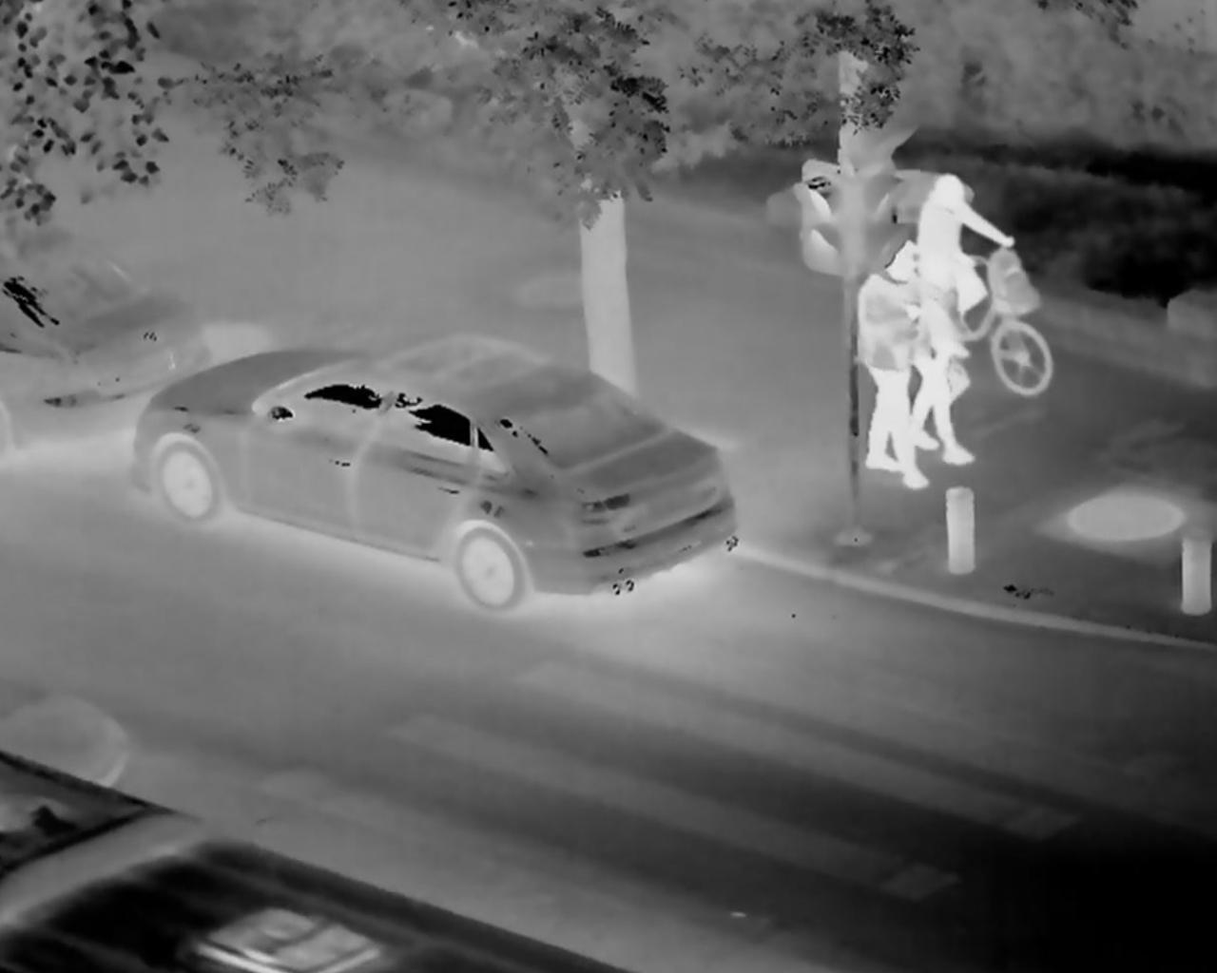person: (860, 227, 930, 496), (918, 174, 1016, 363), (909, 246, 984, 468)
